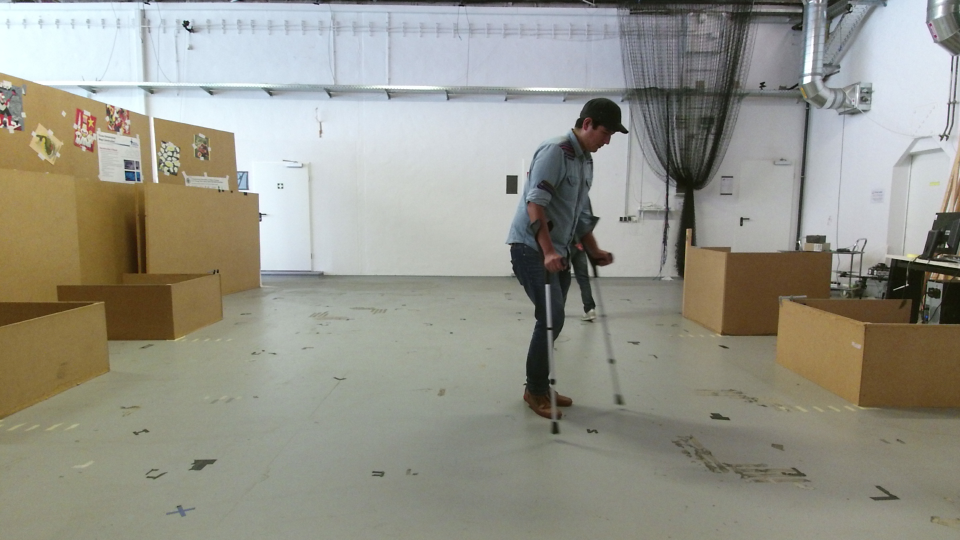crutches: (493, 94, 628, 430)
